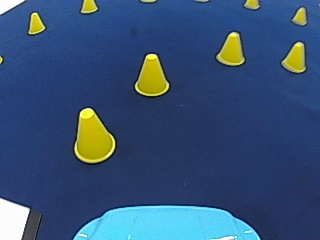cone: (73, 107, 115, 162), (134, 52, 169, 96), (216, 30, 246, 65), (280, 41, 306, 72), (27, 11, 45, 34), (291, 6, 307, 25), (80, 0, 97, 13), (243, 0, 259, 9)
